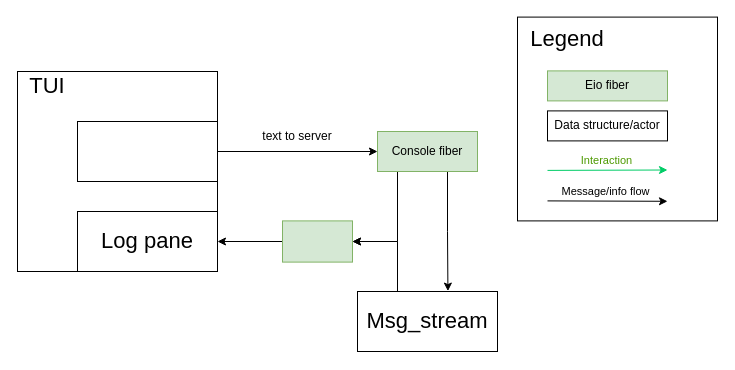
This 735x370 diagram has some shape labels left out. Each missing label, with the centre of its shape:
Chat: the point at 147,151
Logger fiber: the point at 317,241
